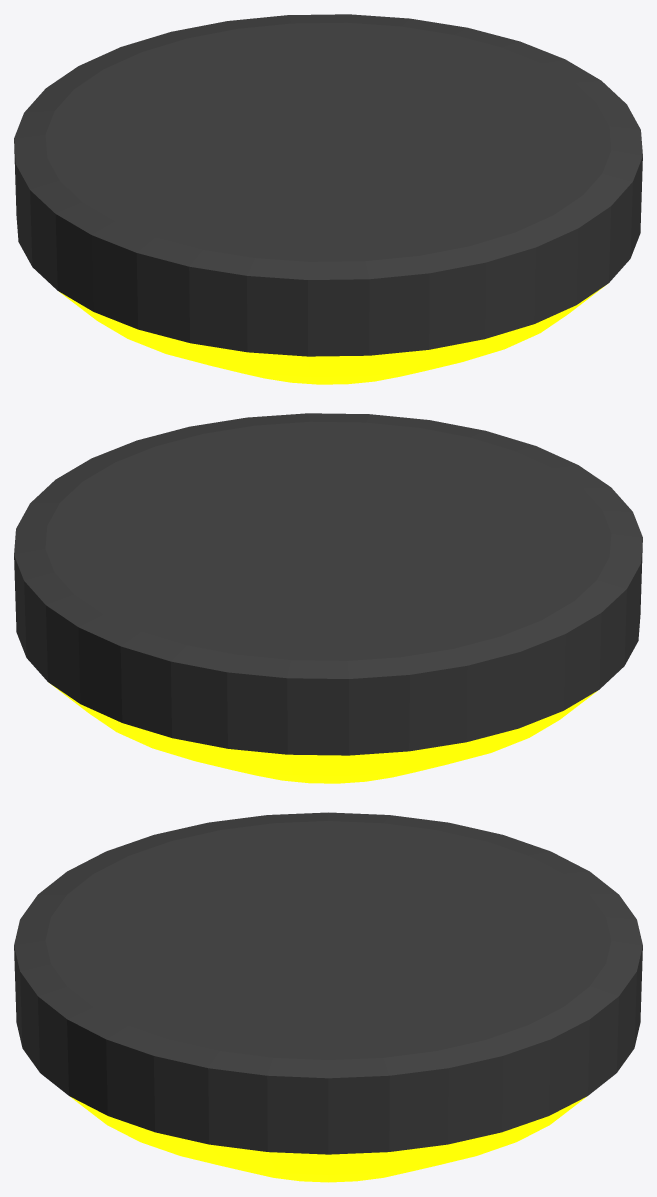
The model's file is Wohnzimmerlampe blend.fbx.
3 renders of one model, top to bottom at view 1: azimuth 30°, elevation 25°; view 2: azimuth 150°, elevation 25°; view 3: azimuth 270°, elevation 25°, orthographic.
Parts seen in each view (by area): view 1: Cylinder; view 2: Cylinder; view 3: Cylinder.
Part boxes in pixels (x1,y1,x2,y2): Cylinder: (14,14,642,384); Cylinder: (14,413,642,783); Cylinder: (14,812,642,1182).
Size of the model in its own units: 90.01 by 31.09 by 90.01.
